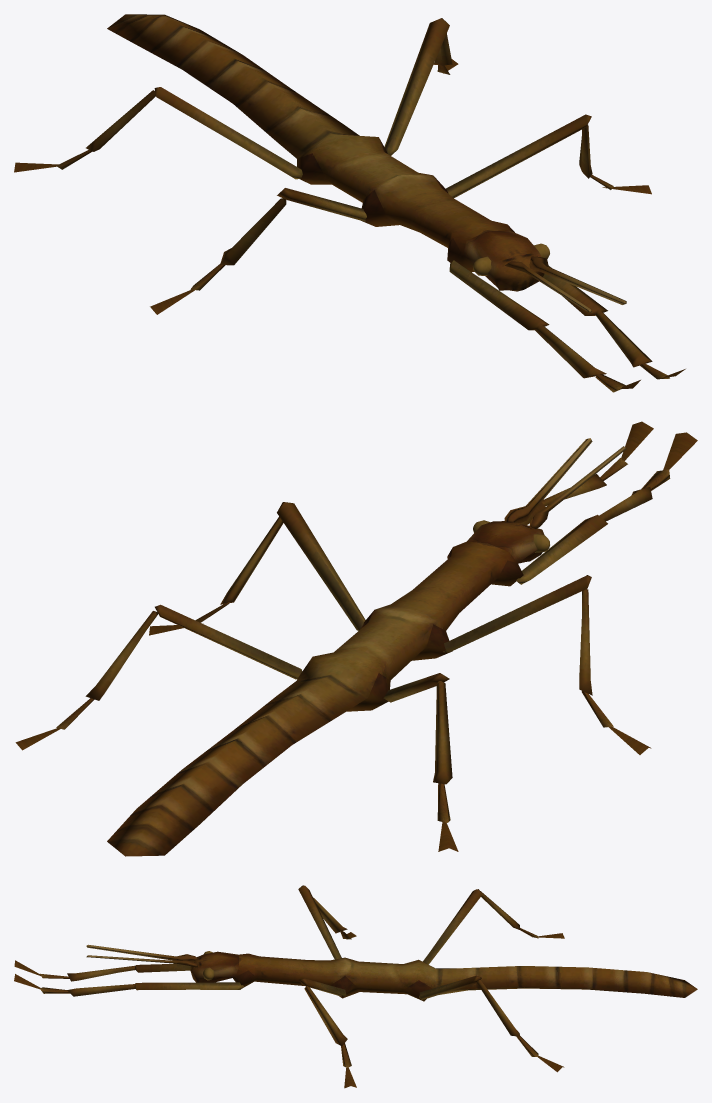
Rendered from InsectNanafushi.glb.
The picture shows the model from 3 angles, top to bottom: view 1: azimuth 30°, elevation 25°; view 2: azimuth 150°, elevation 25°; view 3: azimuth 270°, elevation 25°; orthographic projection. The views are drawn at different scales.
Parts seen in each view (by area): view 1: InsectSeminonukegara_pCube20__mNanafushi; view 2: InsectSeminonukegara_pCube20__mNanafushi; view 3: InsectSeminonukegara_pCube20__mNanafushi.
Boxes of the visible parts, bbox=[...] form: InsectSeminonukegara_pCube20__mNanafushi: bbox=[14, 14, 685, 392]; InsectSeminonukegara_pCube20__mNanafushi: bbox=[15, 421, 697, 856]; InsectSeminonukegara_pCube20__mNanafushi: bbox=[14, 885, 697, 1088].
Size of the model in its own units: 2.96 by 0.7168 by 5.56.
Materials: 1 (1 with a texture image).
